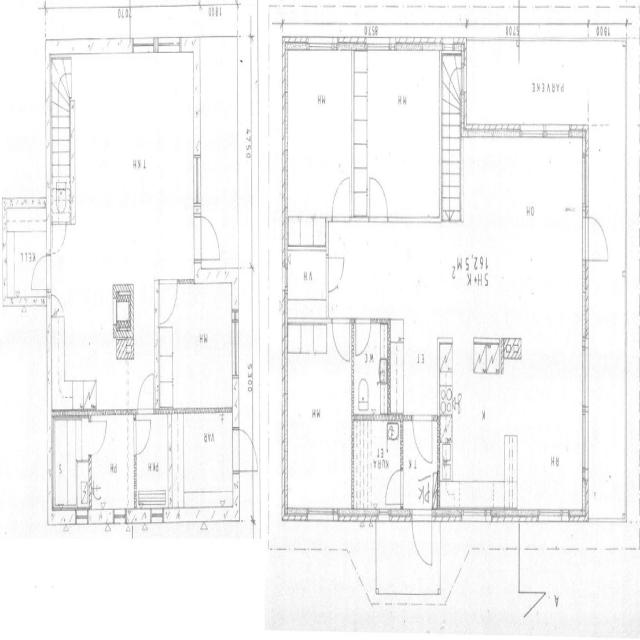door: (68, 48, 197, 224), (353, 317, 390, 417), (13, 230, 48, 299), (410, 409, 436, 467), (197, 210, 223, 268), (584, 210, 611, 265), (411, 504, 434, 568), (367, 168, 391, 224), (330, 170, 352, 226), (136, 368, 155, 430), (157, 276, 179, 326), (331, 314, 352, 364), (236, 424, 257, 474), (325, 250, 347, 294), (383, 463, 404, 509), (88, 412, 108, 456), (133, 412, 152, 455), (31, 250, 48, 294), (354, 315, 372, 356), (51, 218, 68, 254)
window: (579, 332, 591, 411), (579, 400, 591, 474), (580, 142, 592, 213), (230, 310, 241, 384), (306, 502, 339, 524), (459, 504, 491, 524), (543, 120, 571, 142), (307, 35, 336, 55), (536, 505, 566, 522), (377, 503, 397, 524), (356, 506, 376, 524)
zone: (69, 50, 197, 209), (356, 47, 442, 220), (284, 320, 352, 516), (285, 45, 353, 224), (470, 137, 585, 236), (158, 277, 236, 411), (53, 282, 132, 410), (0, 0, 46, 204), (178, 410, 236, 518), (89, 410, 135, 520), (352, 416, 402, 514), (2, 210, 48, 300), (286, 229, 328, 325), (53, 414, 91, 514), (353, 317, 390, 418), (378, 455, 404, 509), (269, 512, 283, 548)
